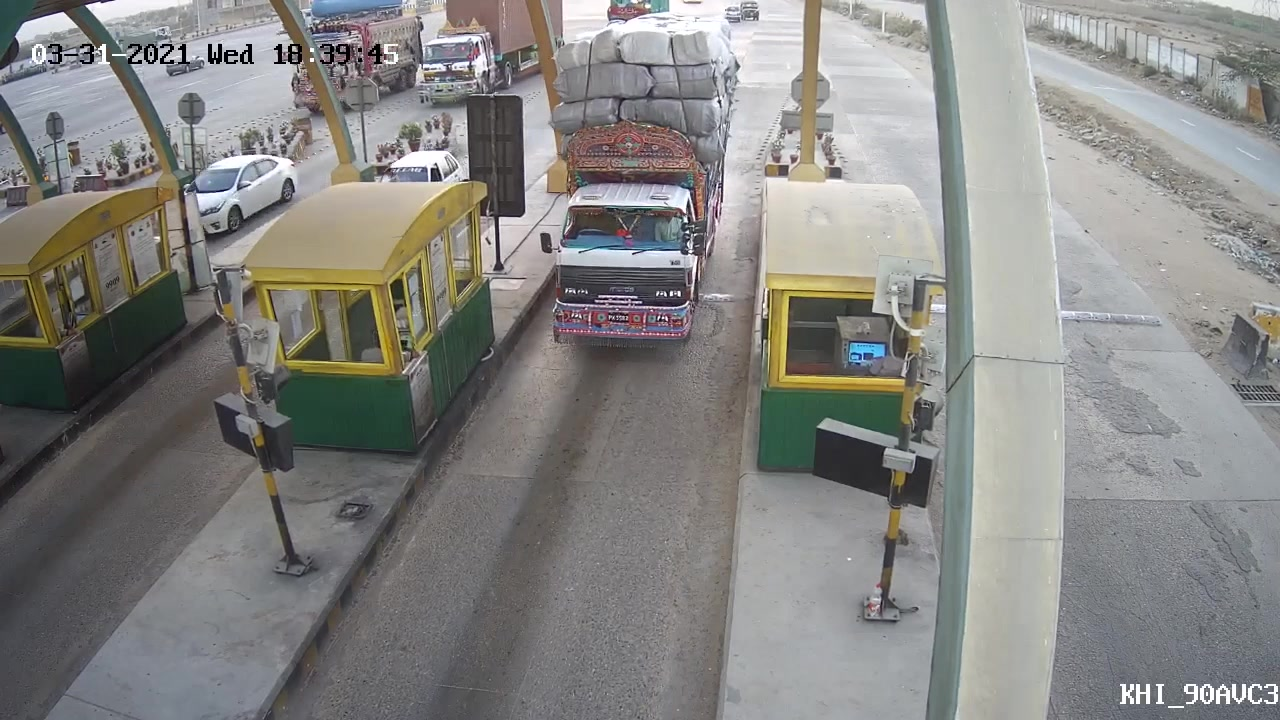F5: (537, 7, 749, 361)
